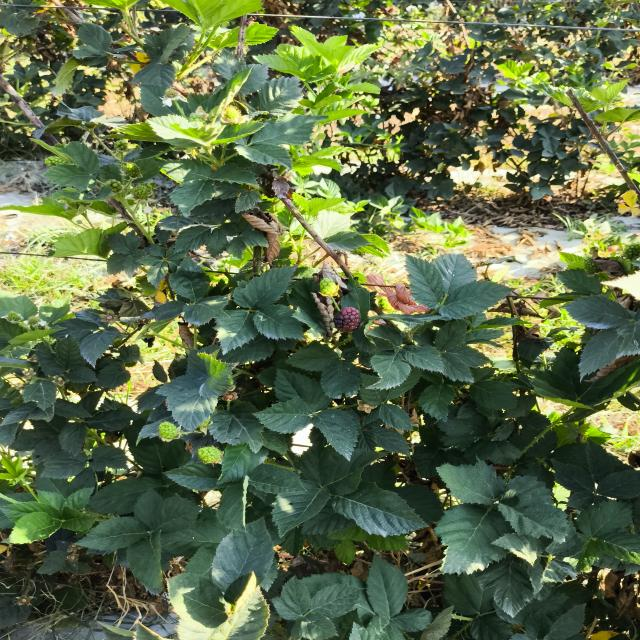marron: (333, 307, 360, 332)
verde: (198, 446, 223, 463), (159, 422, 179, 441), (319, 278, 339, 296)
